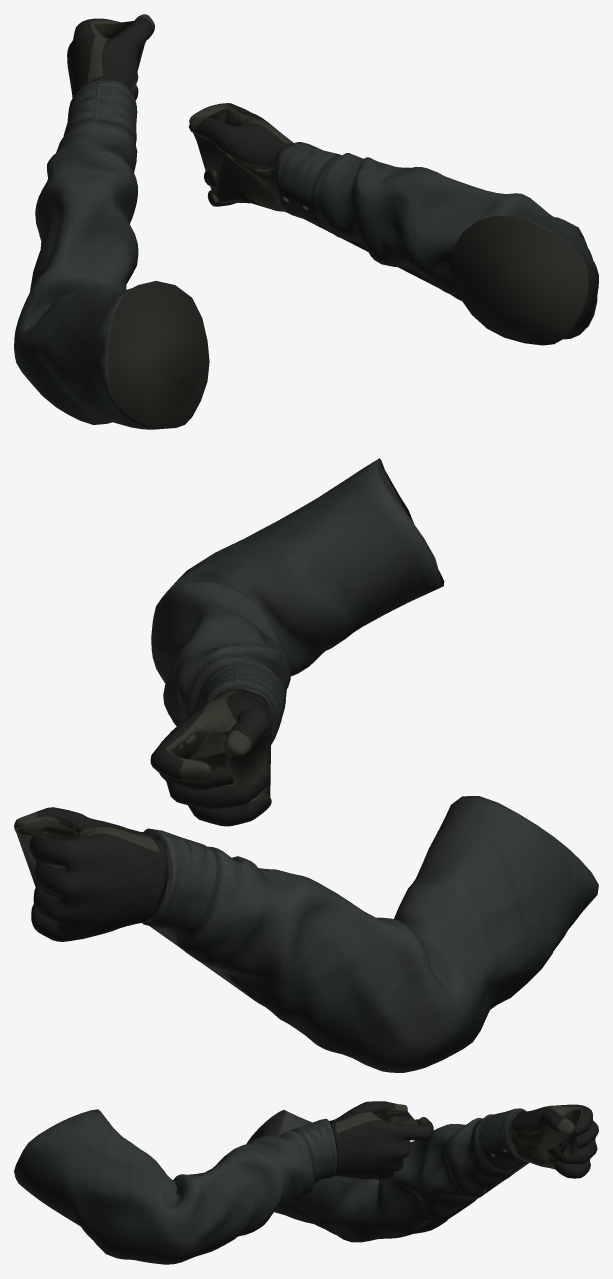
File: arms-rifle.glb
3 renders of one model, top to bottom at view 1: azimuth 30°, elevation 25°; view 2: azimuth 150°, elevation 25°; view 3: azimuth 270°, elevation 25°, orthographic. The views are drawn at different scales.
Visible parts, largest first — view 1: LeftArmMesh, RightArmMesh; view 2: LeftArmMesh, RightArmMesh; view 3: RightArmMesh, LeftArmMesh.
Boxes of the visible parts, x1,y1,x2,y2 form: LeftArmMesh: (14, 14, 209, 429); RightArmMesh: (189, 103, 598, 345); LeftArmMesh: (14, 796, 598, 1072); RightArmMesh: (150, 458, 444, 826); RightArmMesh: (14, 1101, 433, 1264); LeftArmMesh: (246, 1104, 598, 1242).
Bounding box in the file's own units: 0.8485 × 0.5525 × 1.4.
1 material, 1 textured.
